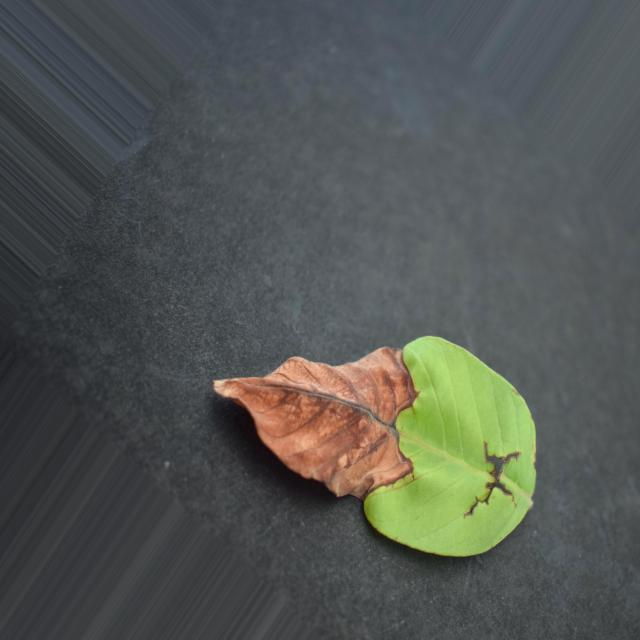Mummification: (214, 338, 536, 557)
